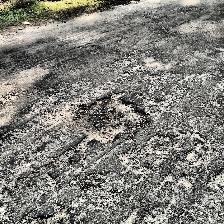pothole: (67, 91, 151, 144), (23, 204, 73, 224)
